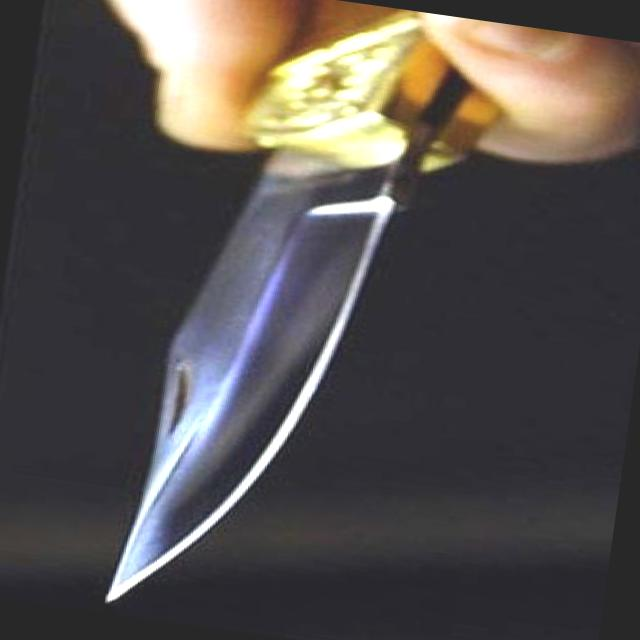knife: (70, 56, 553, 639)
